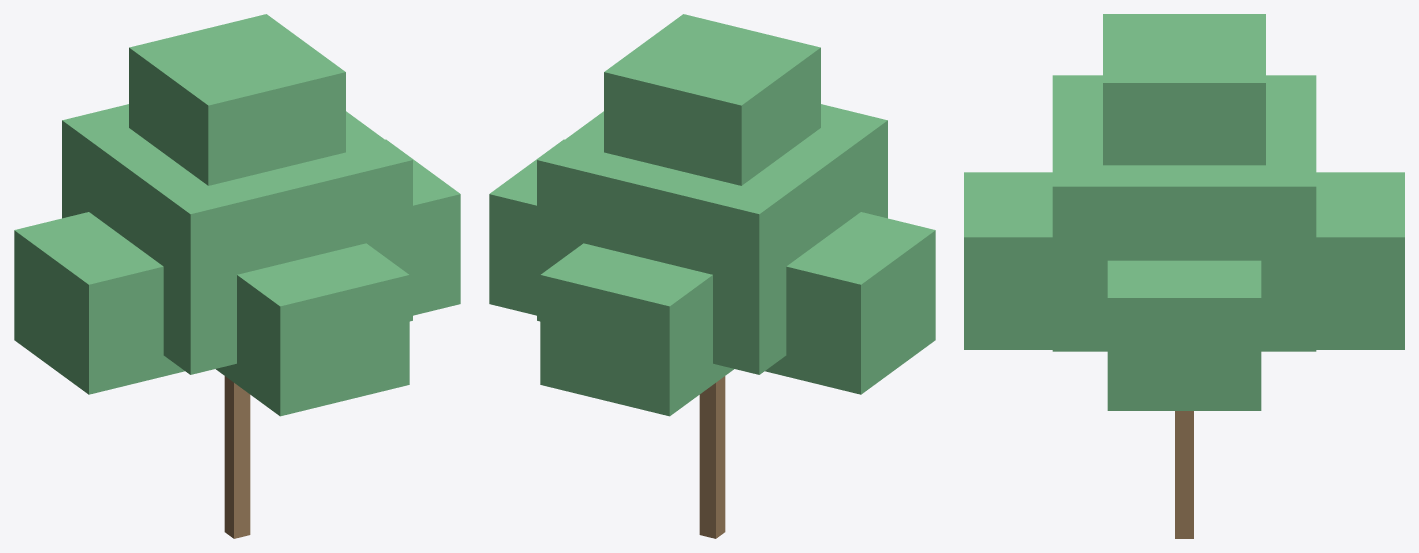
Rendered from Prop_DS_Tree_22.glb.
3 renders of one model, left to right at view 1: azimuth 30°, elevation 25°; view 2: azimuth 150°, elevation 25°; view 3: azimuth 270°, elevation 25°, orthographic. The views are drawn at different scales.
Visible parts, largest first — view 1: Prop_DS_Tree_22; view 2: Prop_DS_Tree_22; view 3: Prop_DS_Tree_22.
Boxes of the visible parts, bbox=[...] form: Prop_DS_Tree_22: bbox=[14, 14, 460, 538]; Prop_DS_Tree_22: bbox=[489, 14, 935, 538]; Prop_DS_Tree_22: bbox=[964, 14, 1404, 538].
Size of the model in its own units: 6.9 by 8.4 by 6.9.
